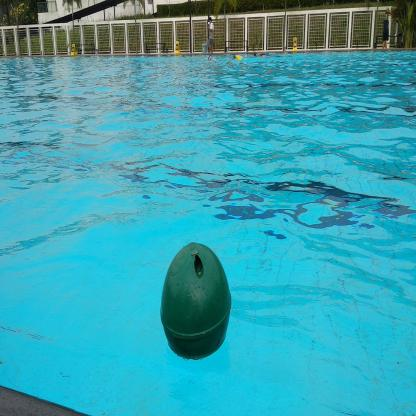green_buoy: (155, 235, 233, 368)
